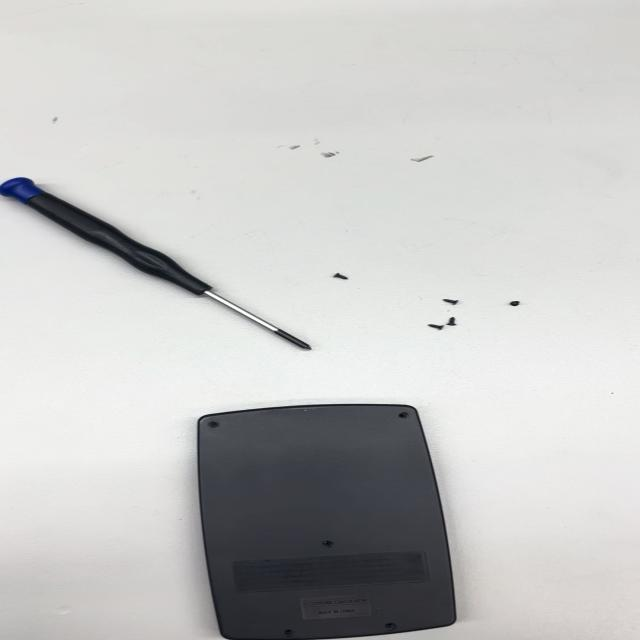back_cover: (190, 402, 456, 640)
screw: (326, 266, 348, 283), (443, 314, 468, 328), (437, 293, 461, 307), (424, 321, 443, 332), (506, 299, 522, 310)
screw_driver: (3, 172, 313, 352)
